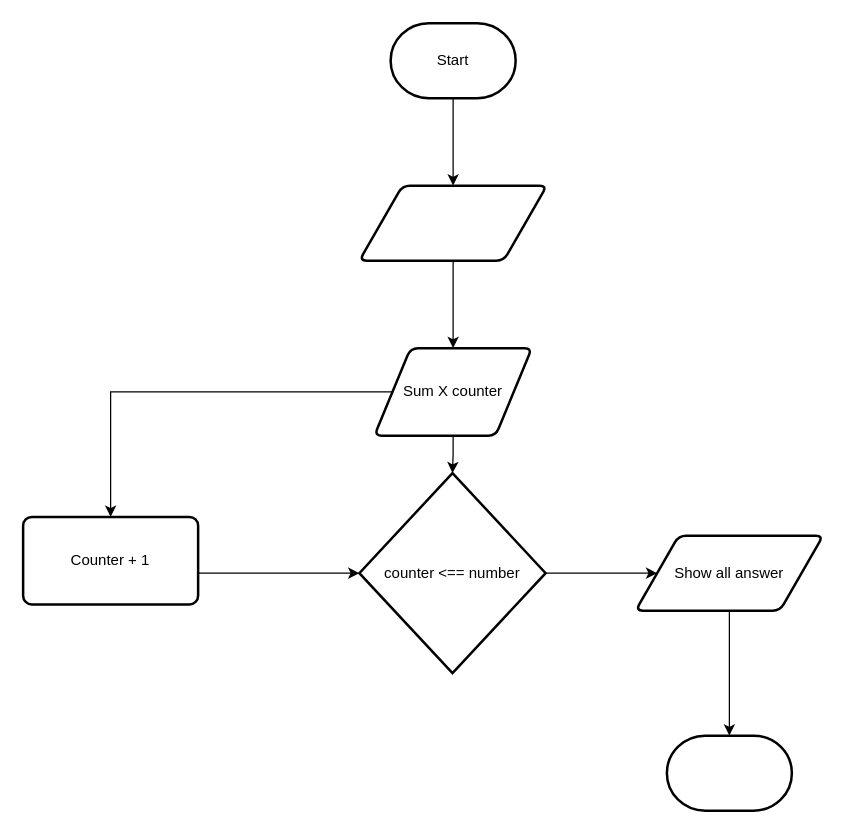
This 845x833 diagram has some shape labels left out. The centre of each missing label's shape, as x and y in pixels:
"Get number" goes at (453,222).
"stop" goes at (728,772).
